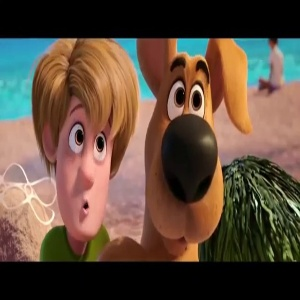Scooby: (142, 36, 253, 244)
Shagy: (32, 38, 139, 239)
